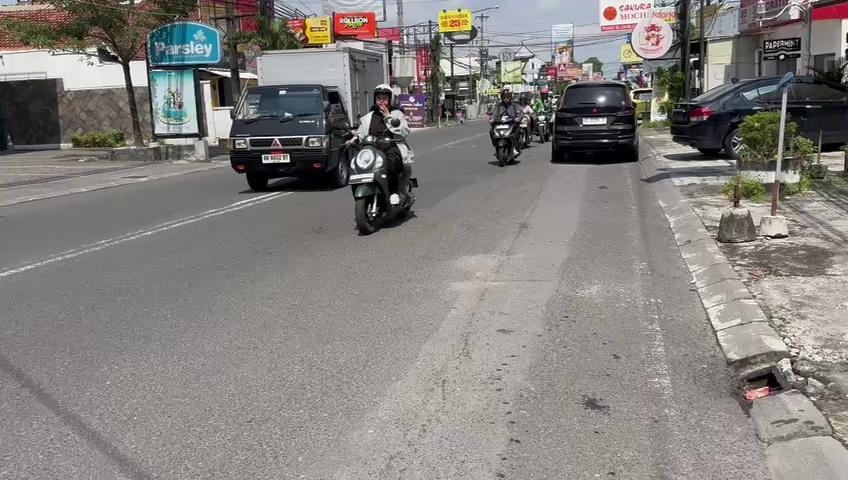helm: (370, 83, 397, 113)
riding: (341, 78, 428, 238)
